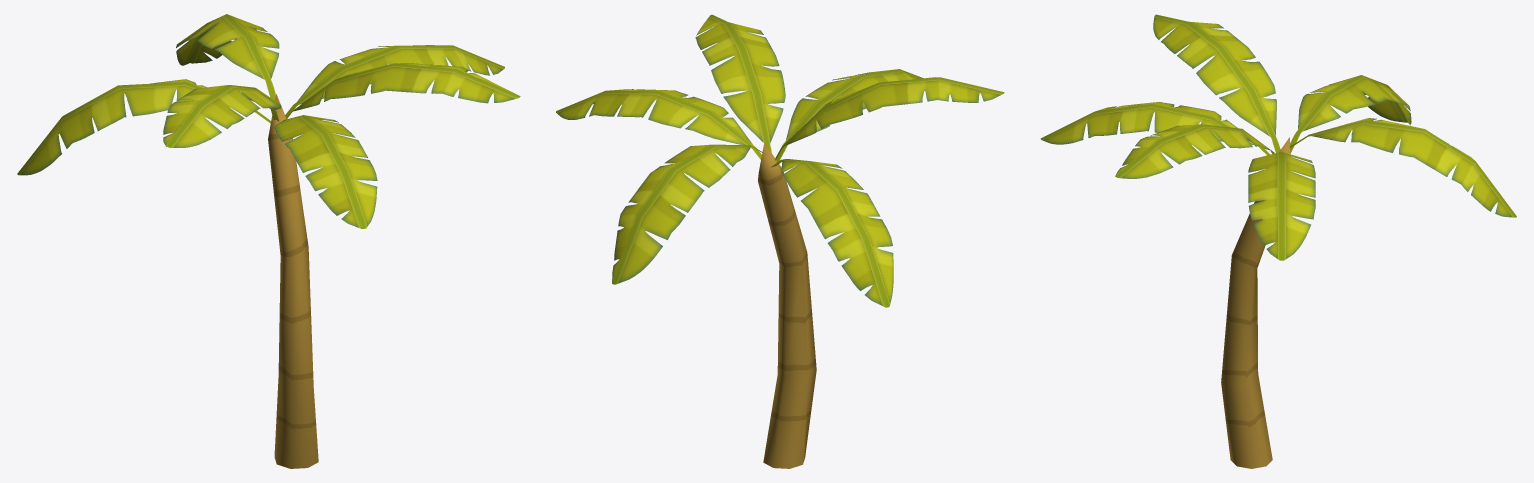
Rendered from Arvore_7.fbx.
3 views of the same model, side by side, from view 1: azimuth 30°, elevation 25°; view 2: azimuth 150°, elevation 25°; view 3: azimuth 270°, elevation 25° (orthographic). The views are drawn at different scales.
Visible parts, largest first — view 1: Arvore_7; view 2: Arvore_7; view 3: Arvore_7.
Boxes of the visible parts, x1,y1,x2,y2 form: Arvore_7: [17, 14, 520, 468]; Arvore_7: [556, 14, 1004, 468]; Arvore_7: [1040, 14, 1516, 468].
Bounding box in the file's own units: 204 × 189 × 218.
